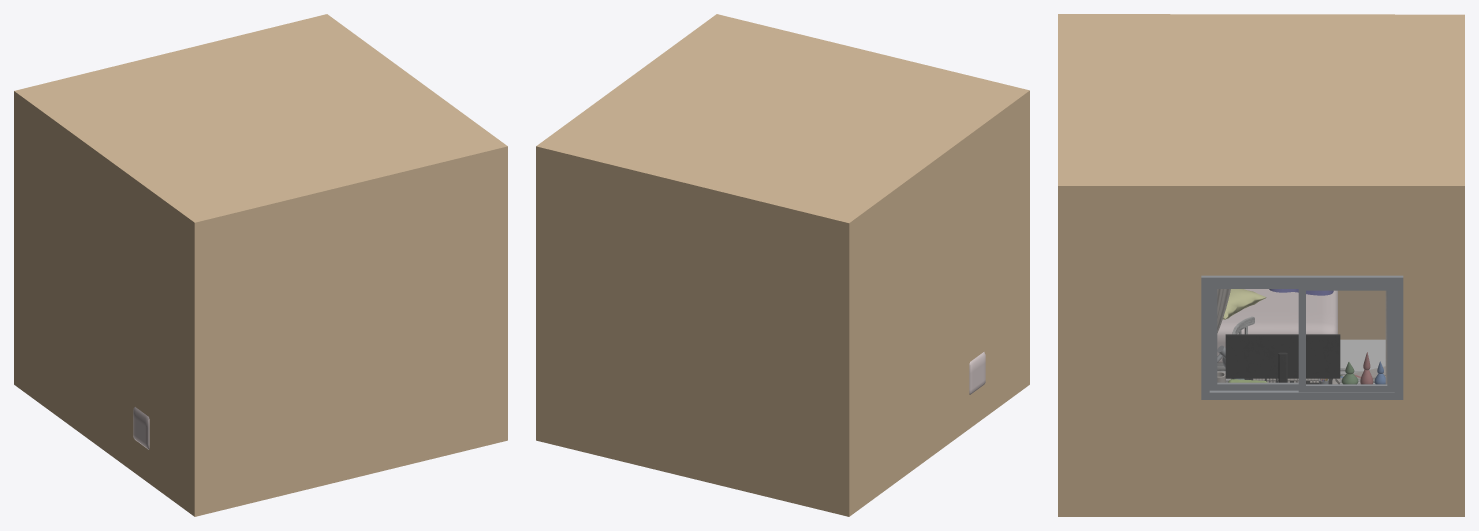
File: Room3.fbx
The picture shows the model from 3 angles, left to right: view 1: azimuth 30°, elevation 25°; view 2: azimuth 150°, elevation 25°; view 3: azimuth 270°, elevation 25°; orthographic projection. The views are drawn at different scales.
Visible parts, largest first — view 1: Wall_02, Quilt; view 2: Wall_02, Quilt; view 3: Wall_02, Glass, Window, Monitor, Quilt, Wall_01, Floor, Others, Pillow03.
Part boxes in pixels (x1,y1,x2,y2): Wall_02: (14,14,507,516); Quilt: (133,407,149,449); Wall_02: (536,14,1029,516); Quilt: (969,352,985,394); Wall_02: (1058,14,1464,516); Glass: (1217,289,1386,384); Window: (1201,275,1403,399); Monitor: (1225,334,1340,382); Quilt: (1217,289,1337,362); Wall_01: (1338,290,1385,339); Floor: (1340,339,1385,371); Others: (1217,345,1385,384); Pillow03: (1223,289,1266,319).
Size of the model in its own units: 279 by 246 by 274.
